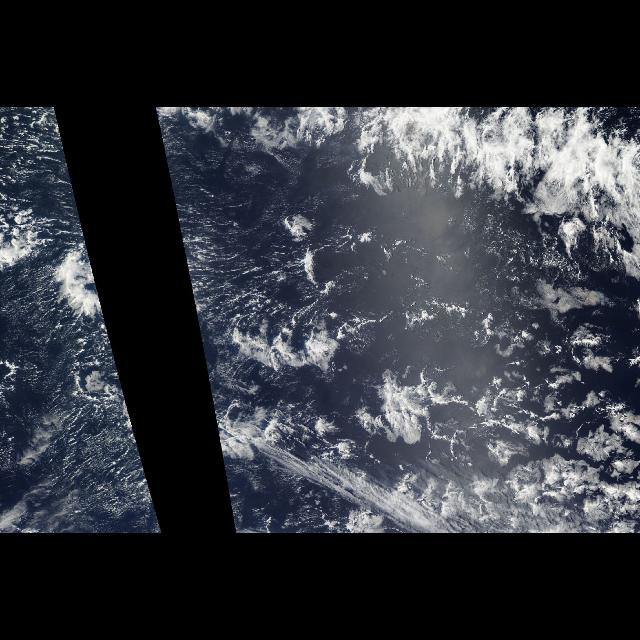Sugar: (3, 274, 146, 508), (175, 155, 319, 297)
